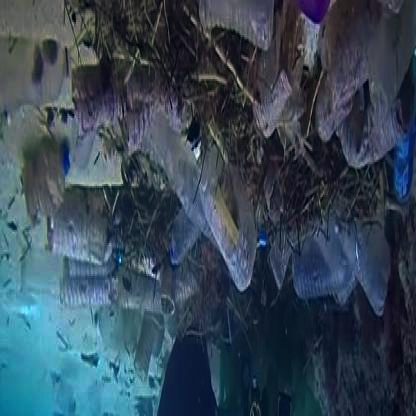pbottle: (184, 86, 262, 328), (30, 123, 112, 280), (68, 76, 174, 182), (270, 219, 360, 339), (337, 160, 396, 328), (61, 216, 134, 340), (119, 271, 190, 381), (195, 2, 276, 64)
